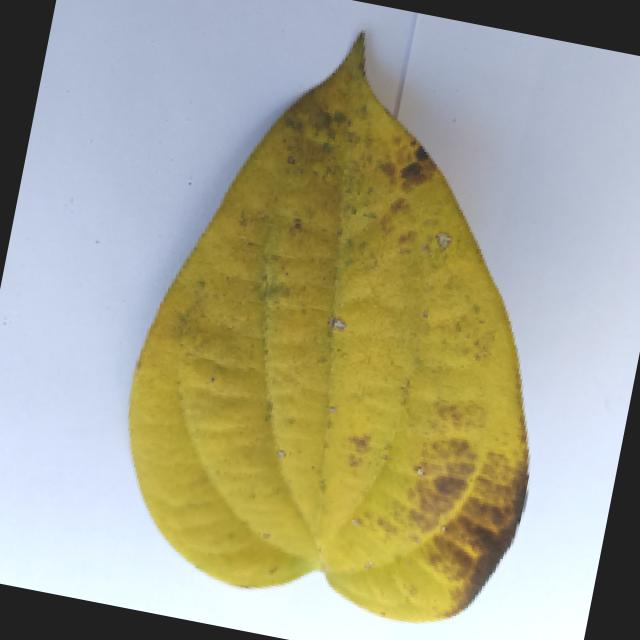slow-decline: (83, 0, 620, 639)
